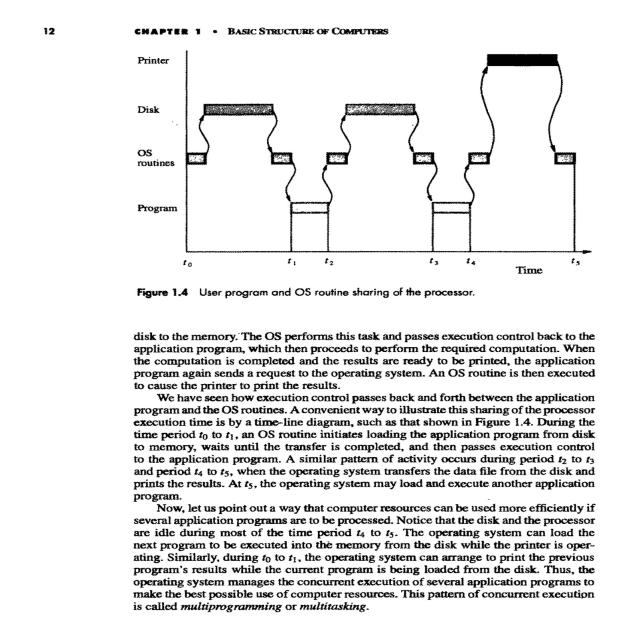diagram: (119, 24, 606, 275)
